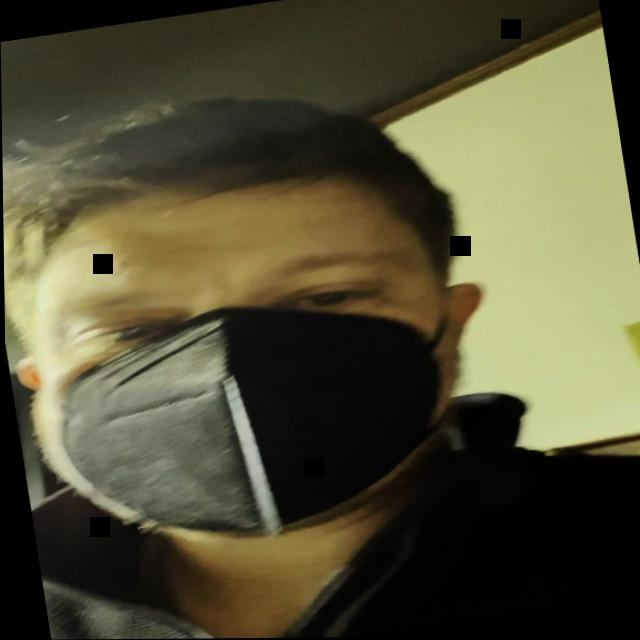Mask: (2, 157, 474, 564)
